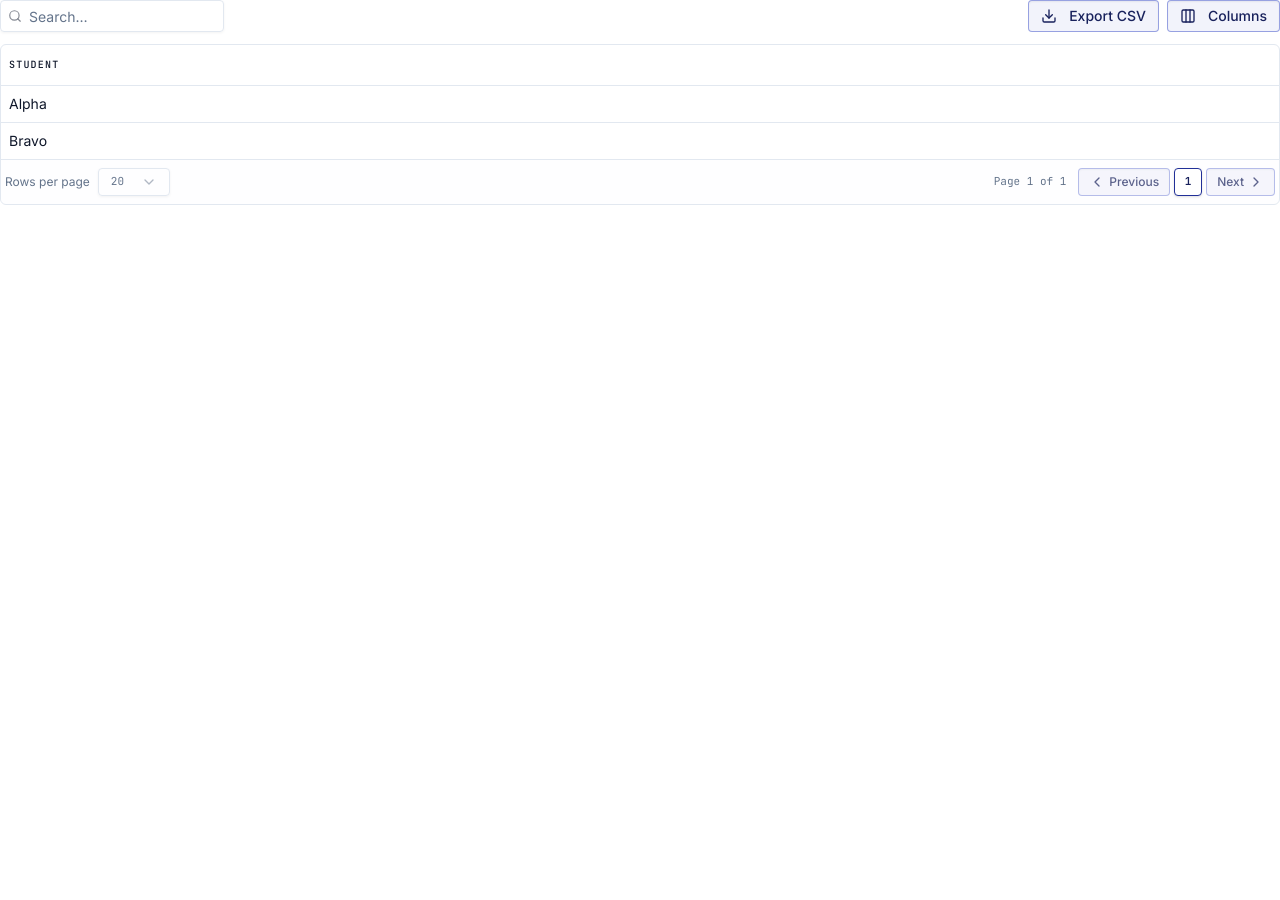
Test: DataTableExportSheet — preset choice › shows the row count and defaults to what is on screen
The width and height of the screenshot is (1280, 900).
Click the button "Export CSV": click(1094, 16) [1028,0,1159,32]
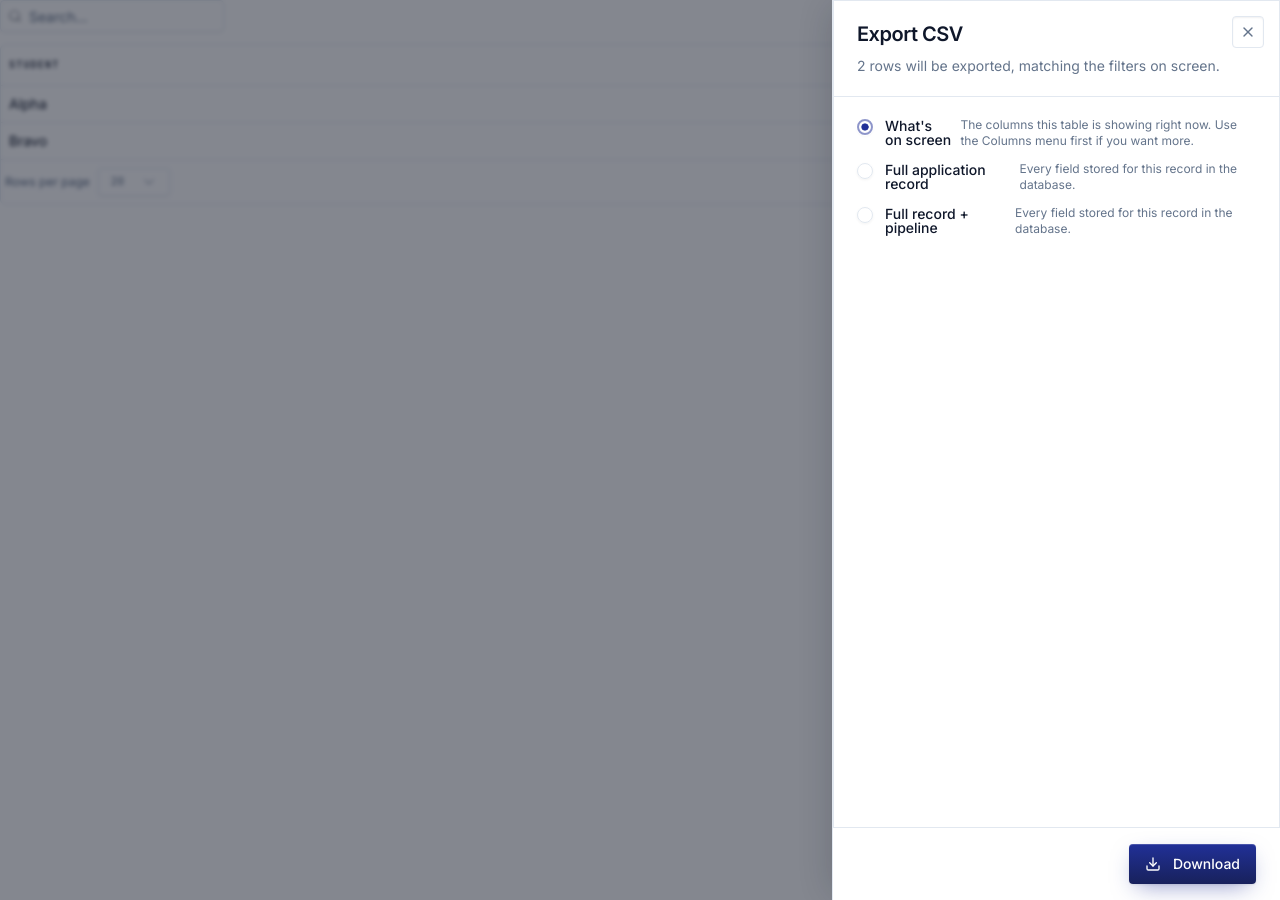
expect the text "2 rows will be exported, matching the filters on screen." is shown: met, box [857,56,1224,76]
expect the radio button named "What's on screen" next to "What's on screen" is checked: met, box [857,119,873,135]
